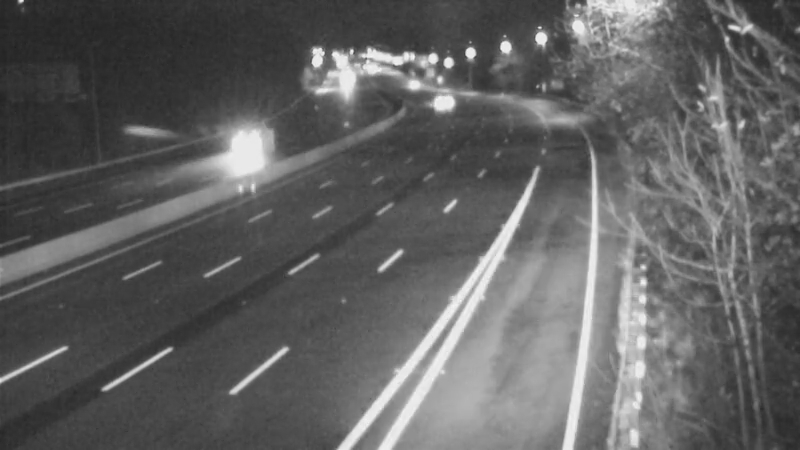vehicle: (387, 58, 437, 108), (418, 78, 468, 128), (211, 125, 261, 175)
